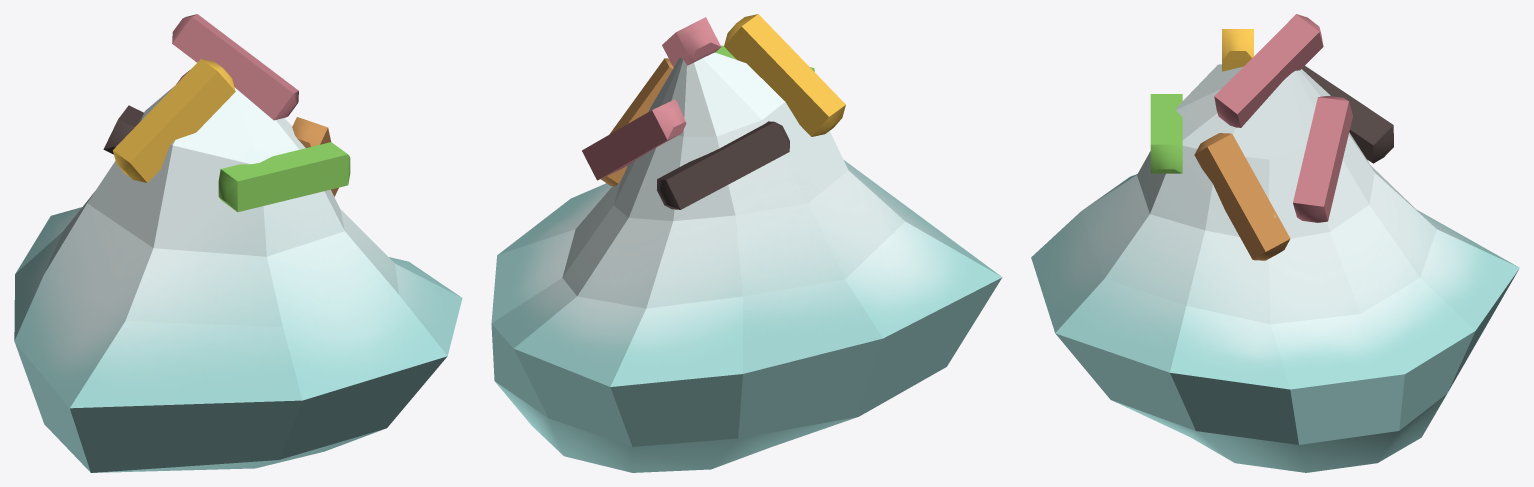
File: shabed03.fbx
The picture shows the model from 3 angles, left to right: view 1: azimuth 30°, elevation 25°; view 2: azimuth 150°, elevation 25°; view 3: azimuth 270°, elevation 25°; orthographic projection. The views are drawn at different scales.
Parts seen in each view (by area): view 1: shabed03; view 2: shabed03; view 3: shabed03.
Boxes of the visible parts, x1,y1,x2,y2 form: shabed03: (14,14,462,472); shabed03: (491,14,1002,472); shabed03: (1031,14,1519,472).
Size of the model in its own units: 231 by 240 by 245.
